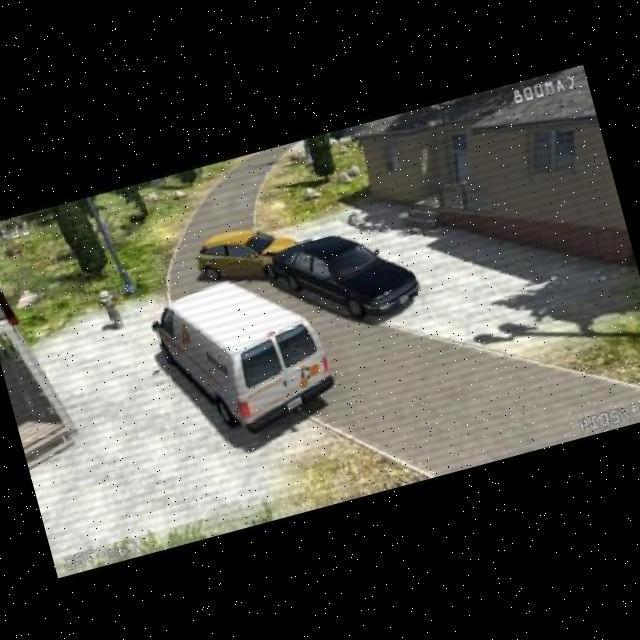accident: (184, 184, 397, 336)
